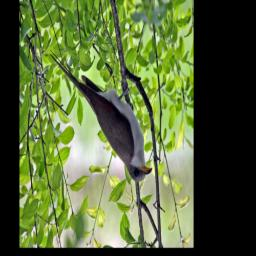Cuckoo: (51, 49, 154, 182)
